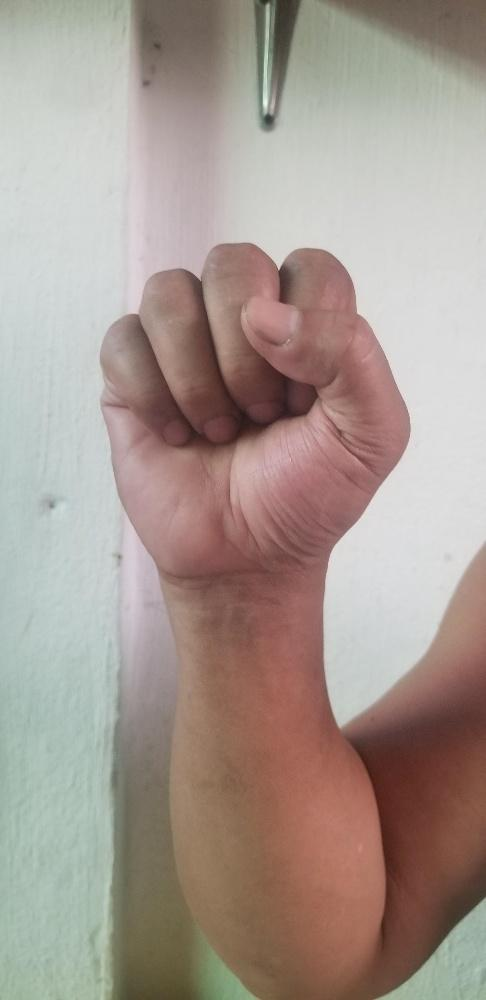s: (97, 237, 412, 562)
